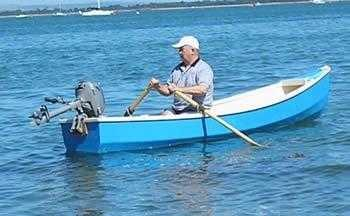kayak: (60, 64, 332, 154), (80, 2, 114, 16)
